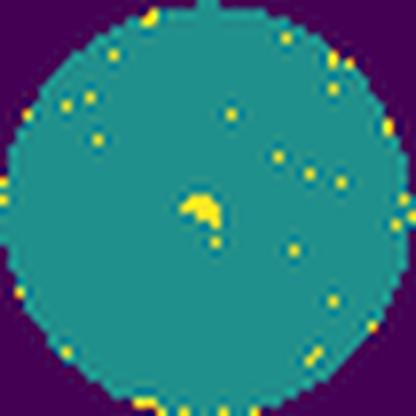Center: (178, 191, 221, 232)
